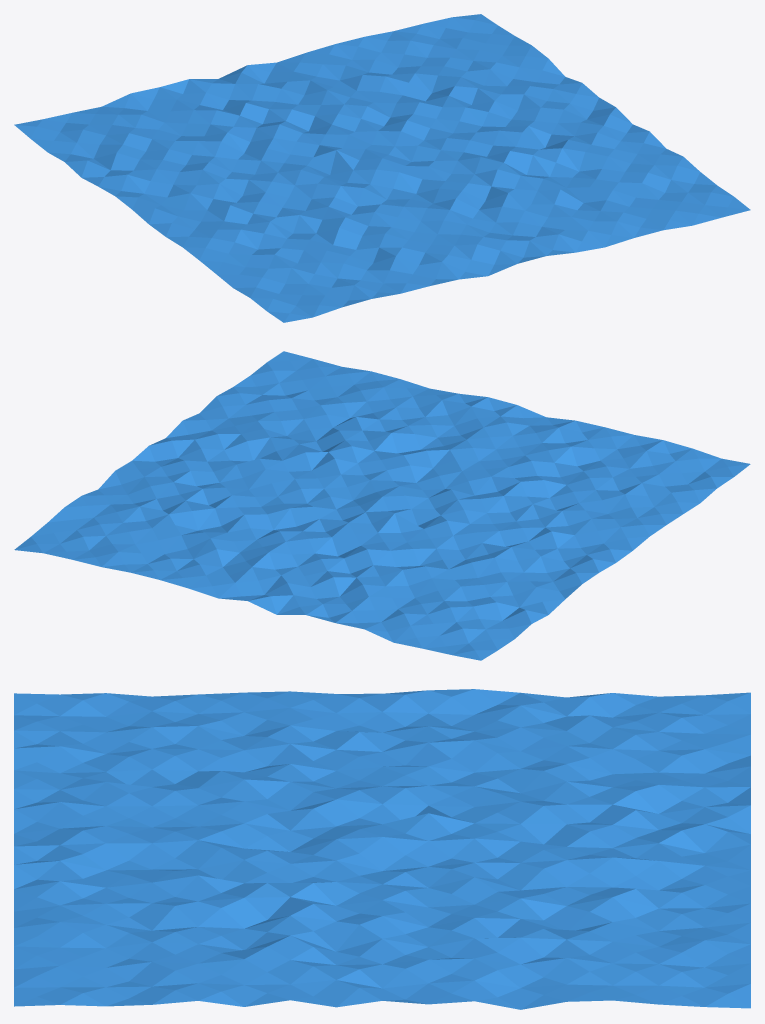
Rendered from [poo]_Water.fbx.
3 views of the same model, one above another, from view 1: azimuth 30°, elevation 25°; view 2: azimuth 150°, elevation 25°; view 3: azimuth 270°, elevation 25° (orthographic). The views are drawn at different scales.
Visible parts, largest first — view 1: Water; view 2: Water; view 3: Water.
Part boxes in pixels (<box>): Water: <box>14,14,750,322</box>; Water: <box>14,351,750,660</box>; Water: <box>14,689,750,1009</box>.
Bounding box in the file's own units: 14096 × 467 × 14096.
